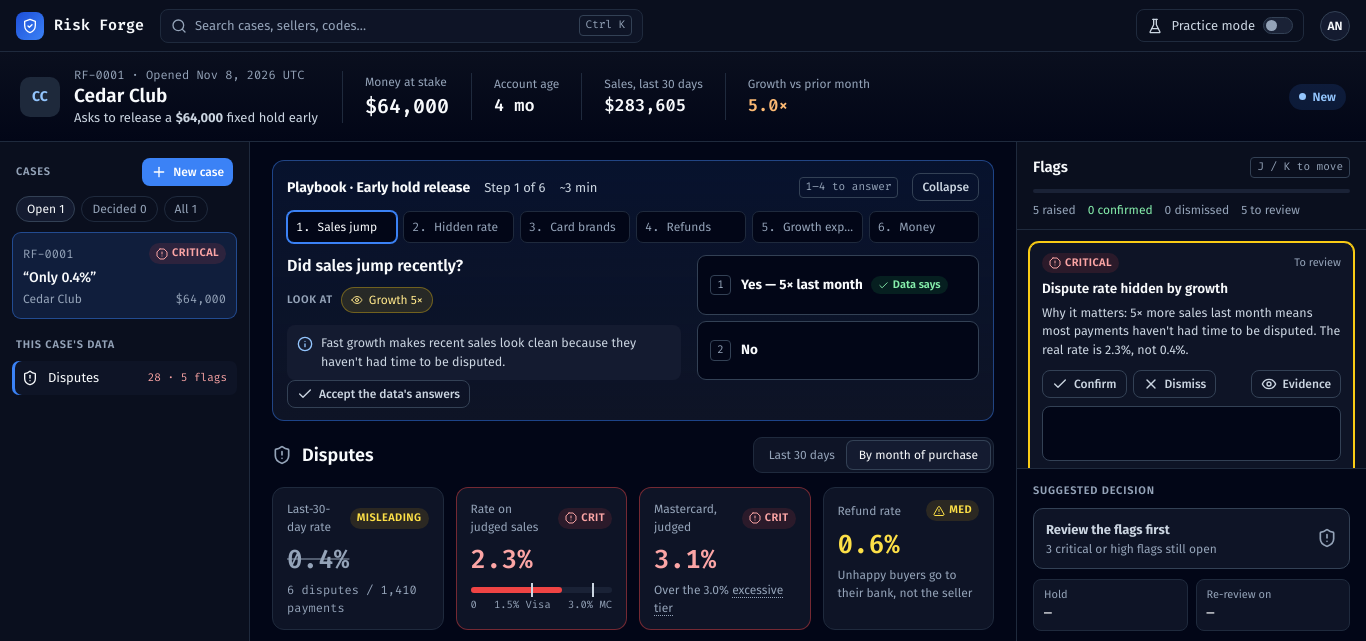
Test: playbook in the console › reopening the first step and answering No clears the later answers and returns their flags to raised
Expected: the element "Playbook" is shown, [272,160,994,421]
Expected: the element with class "sel" is shown, [1029,242,1354,468]
Type keys "11"
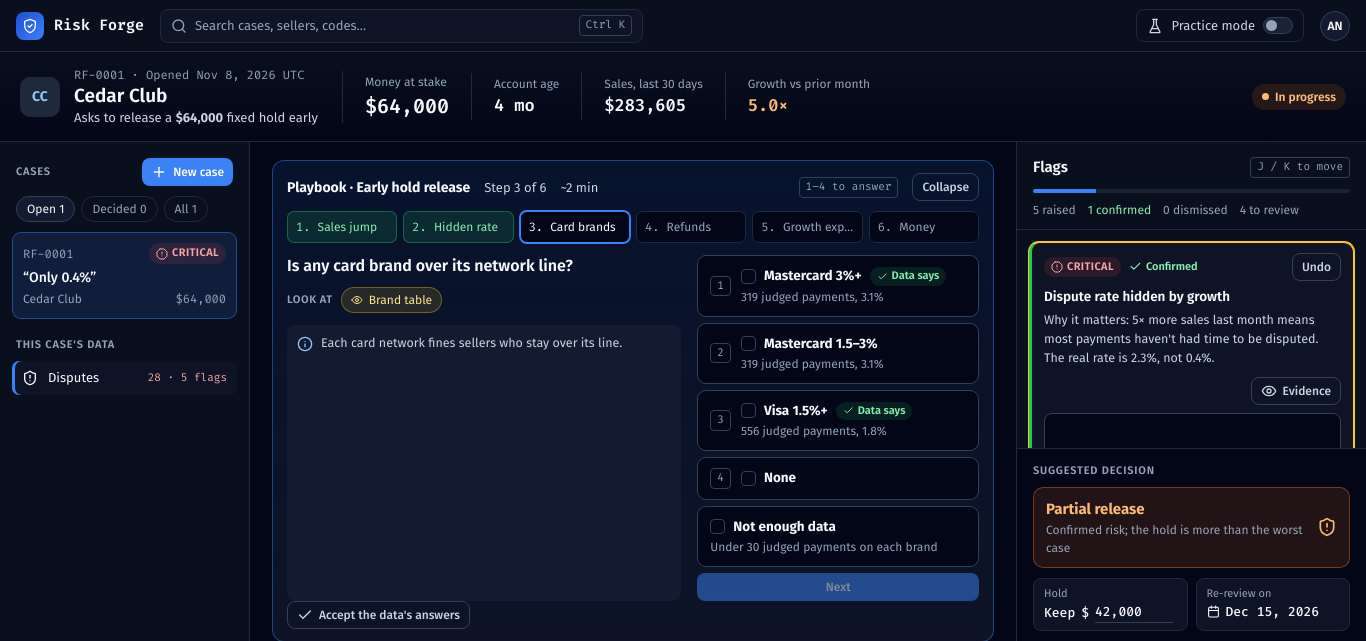
Expected: the text "1 confirmed" is shown, [1088,201,1151,219]
Click the button "Sales jump" at [347, 227], box [318,218,377,236]
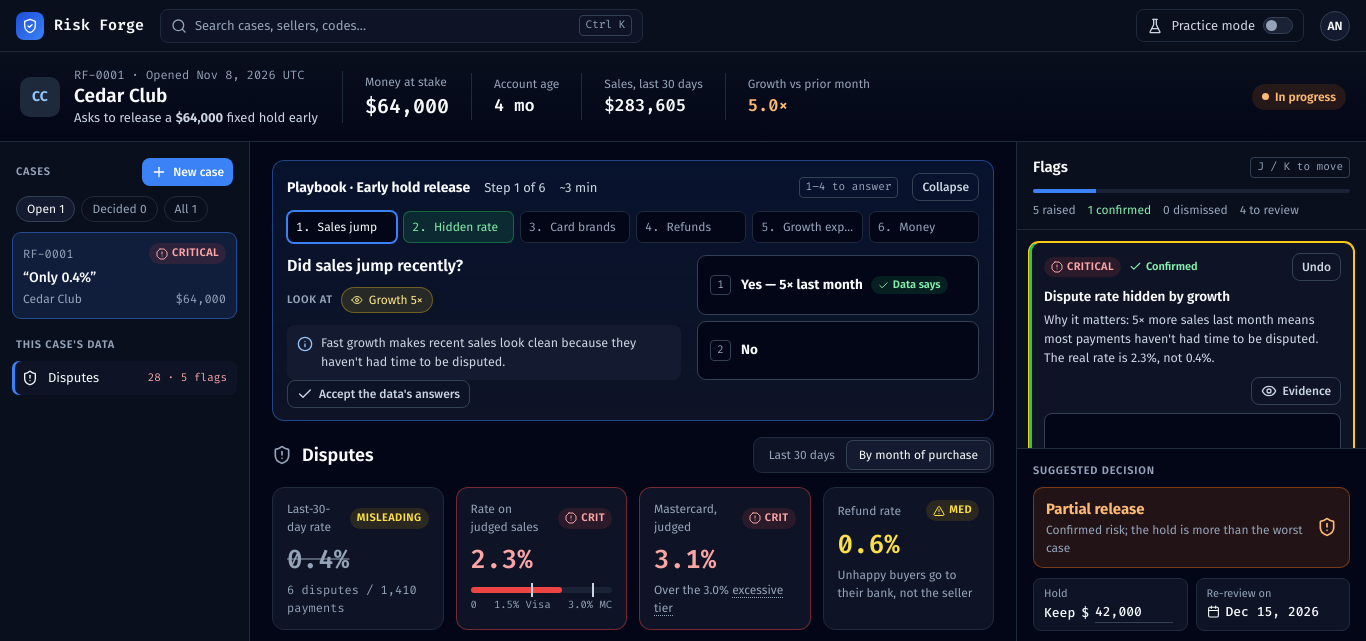
Expected: the text "Did sales jump recently?" is shown, [287,256,463,275]
Type keys "2"
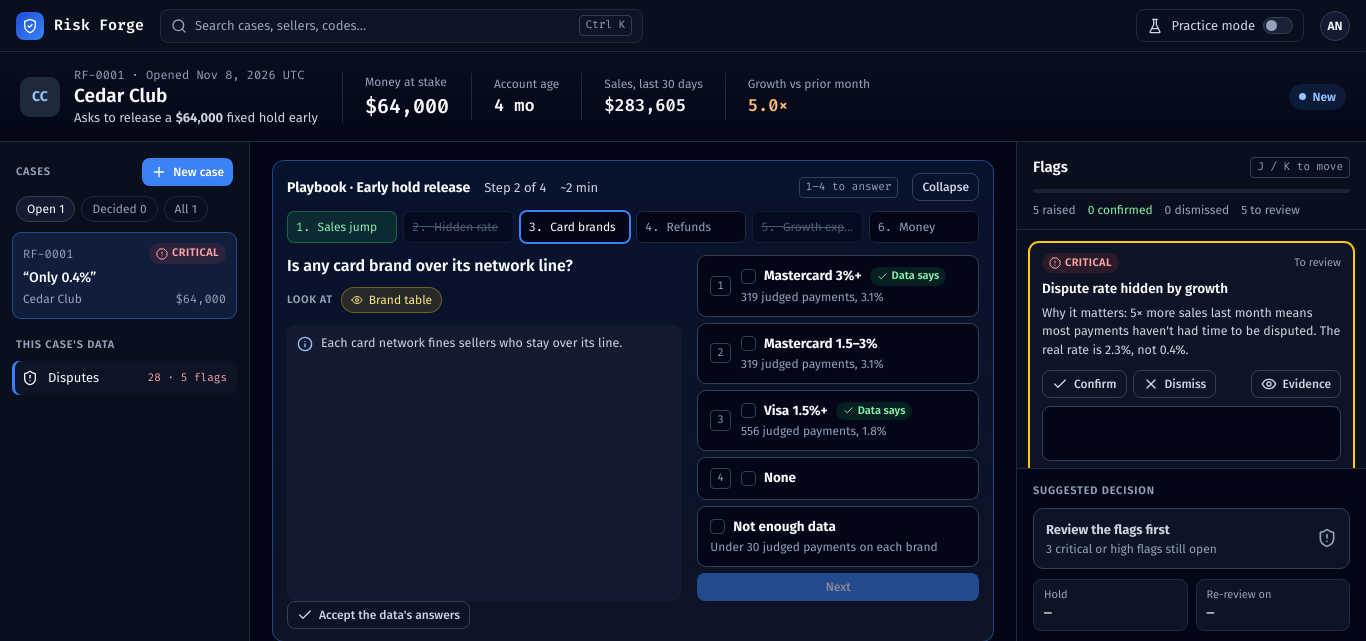
Expected: the text "0 dismissed" is shown, [1165,201,1229,219]
Expected: the text "0 confirmed" is shown, [1088,201,1153,219]
Expected: the number of list items titled "skipped — not needed" is 2, [403,211,514,243]; [752,211,863,243]
